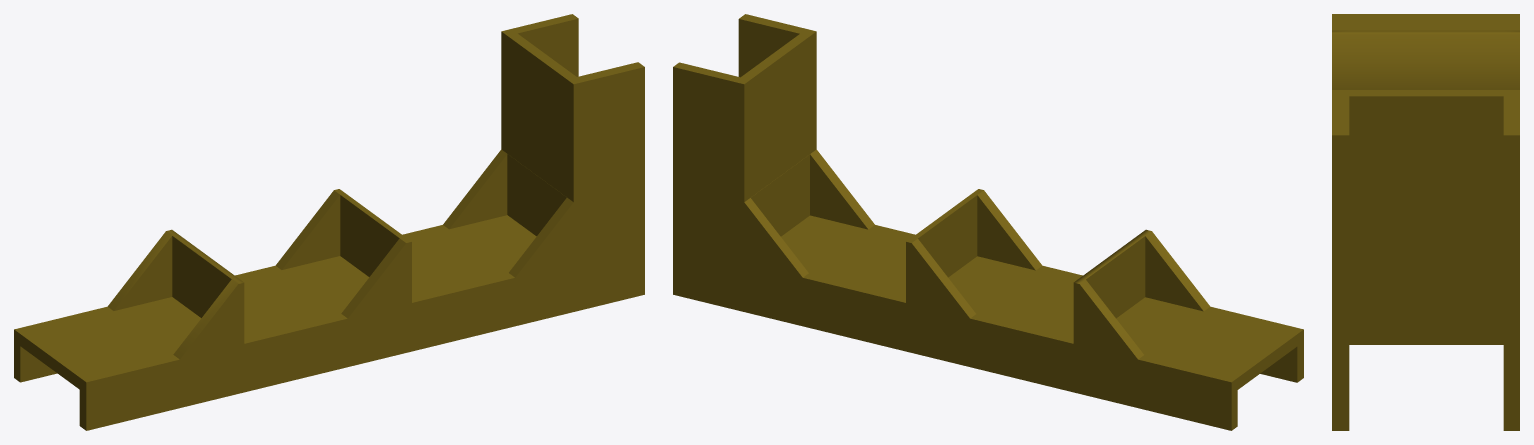
Rendered from schwelleraufsatz.FBX.
3 views of the same model, side by side, from view 1: azimuth 30°, elevation 25°; view 2: azimuth 150°, elevation 25°; view 3: azimuth 270°, elevation 25° (orthographic). The views are drawn at different scales.
Parts seen in each view (by area): view 1: Box001; view 2: Box001; view 3: Box001.
Part boxes in pixels (x1,y1,x2,y2): Box001: (14, 14, 644, 430); Box001: (673, 14, 1303, 430); Box001: (1332, 14, 1519, 430).
Size of the model in its own units: 36.98 by 14.41 by 8.3.
